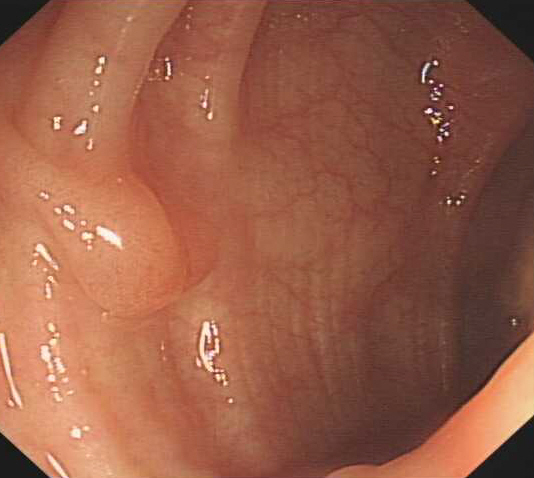others: (63, 172, 188, 322)
